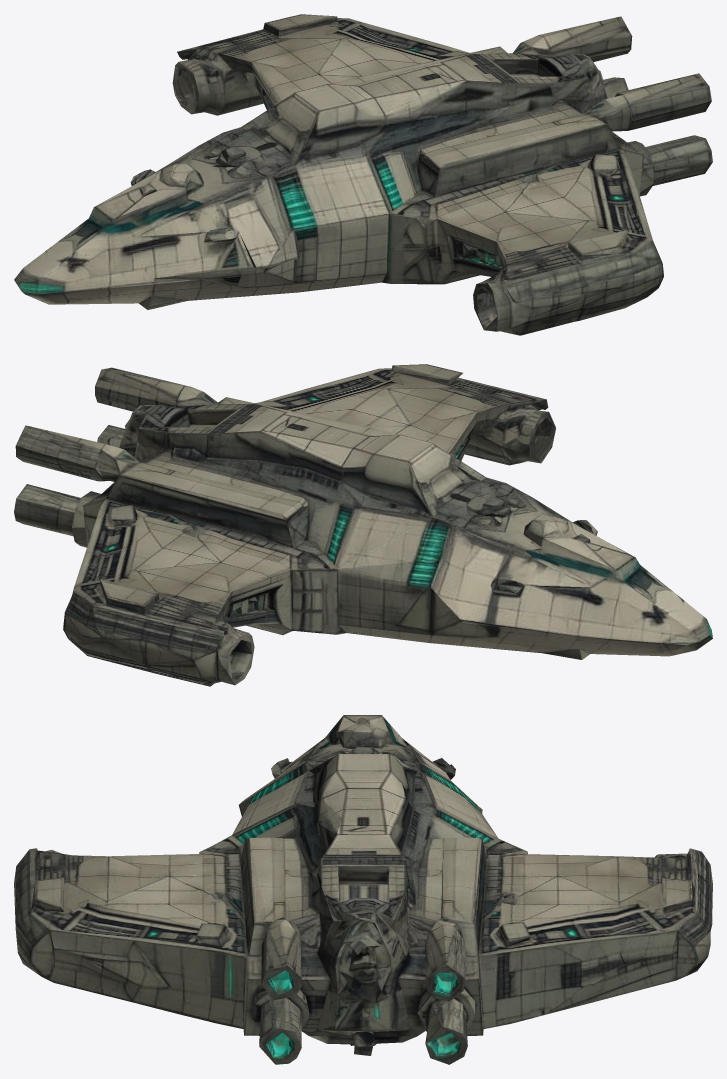
Rendered from nation-h-scout.glb.
3 views of the same model, one above another, from view 1: azimuth 30°, elevation 25°; view 2: azimuth 150°, elevation 25°; view 3: azimuth 270°, elevation 25° (orthographic). The views are drawn at different scales.
Bounding box in the file's own units: 1.9 × 0.4519 × 1.73.
Materials: 1 (1 with a texture image).
